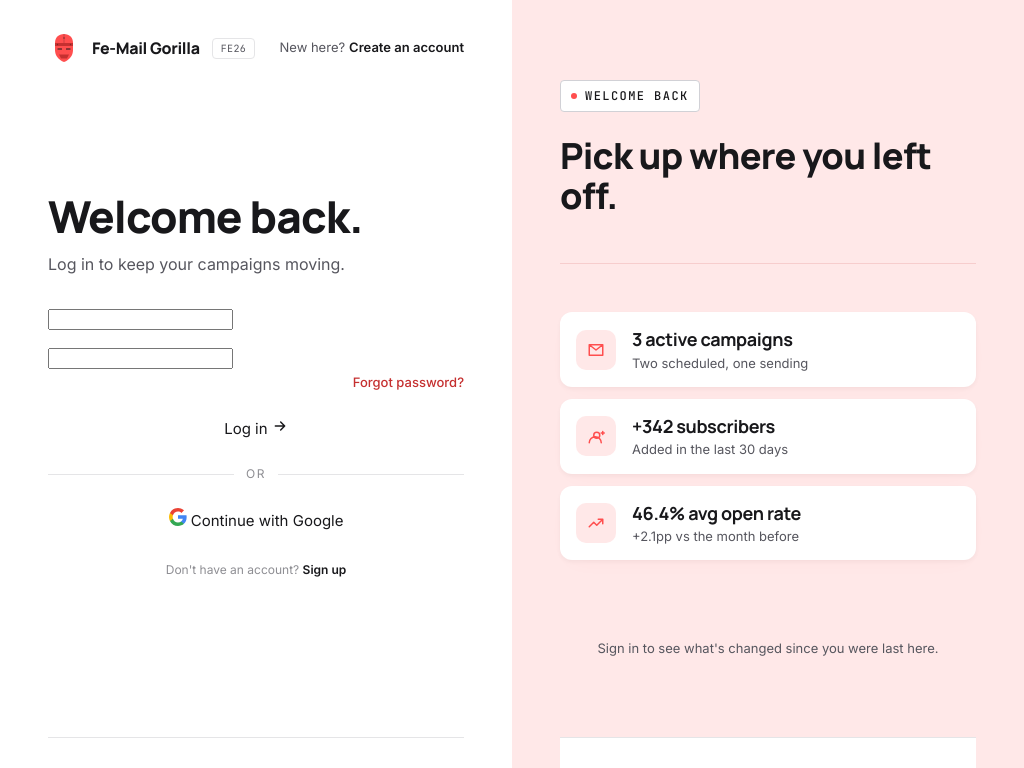
Test: login.vue › LOGIN-06: lockout (code 219) → friendly message
The width and height of the screenshot is (1024, 768).
In the field with id "email": (140, 320) [48,309,233,330], type "user@example.com"
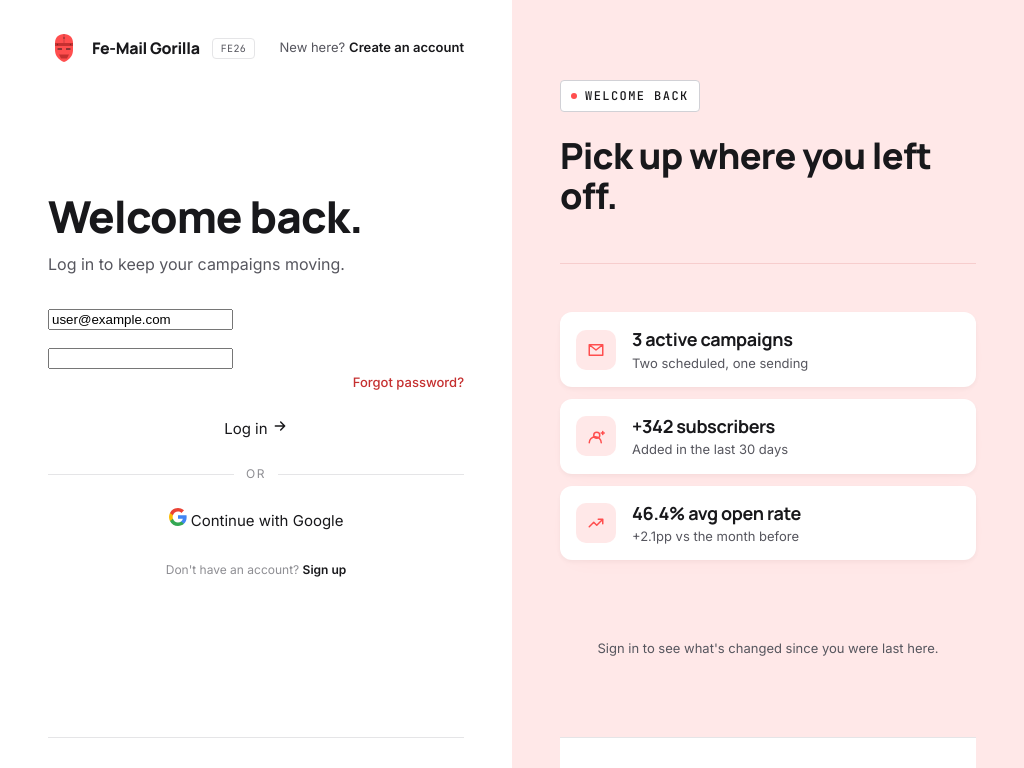
In the password field: (140, 358) [48,348,233,369], type "pw"
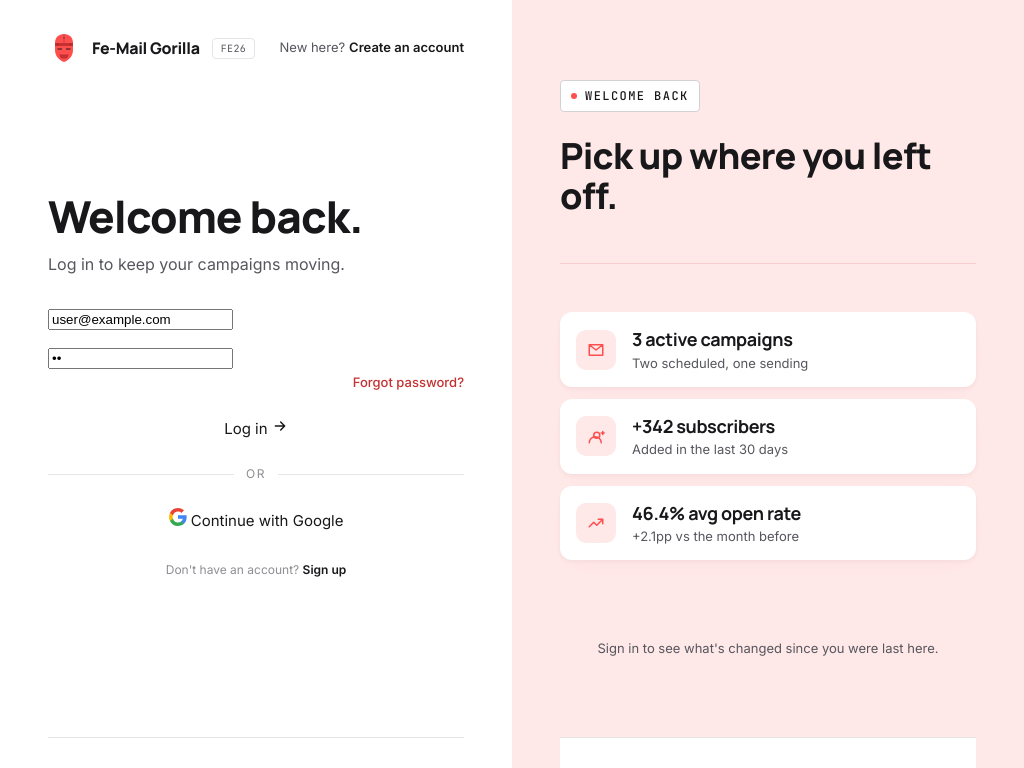
Submit the form, box [48,308,464,577]
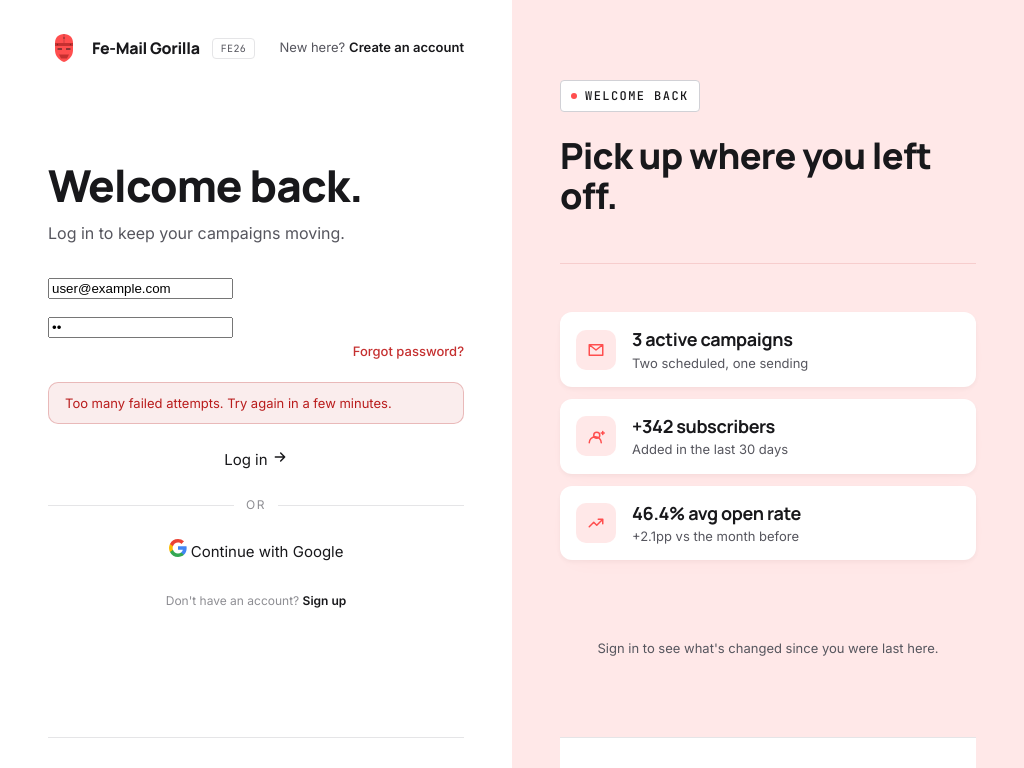
expect the message with class "form-error" reads "Too many failed attempts. Try again in a few minutes.": met, box [65,395,392,411]
